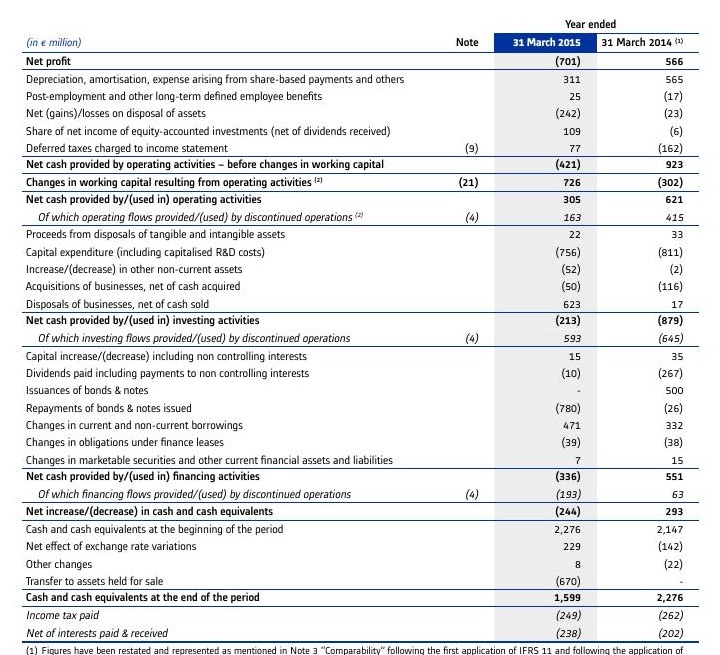table: (0, 0, 720, 655)
